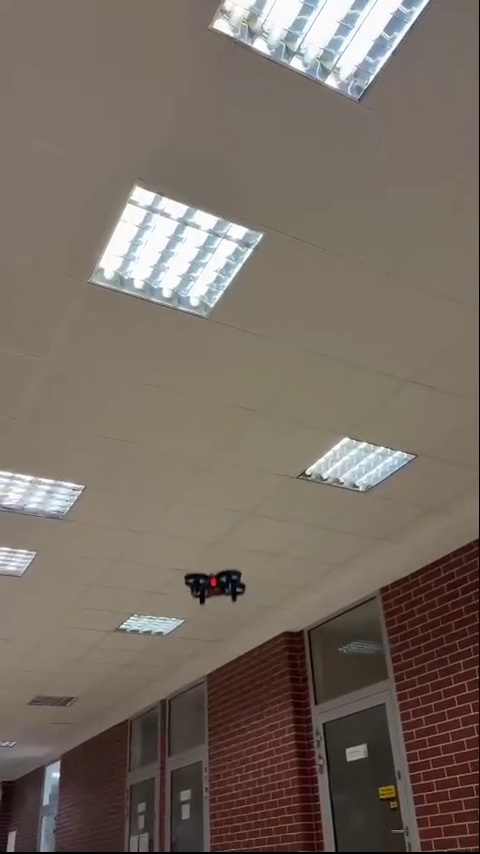drone: (186, 569, 245, 599)
